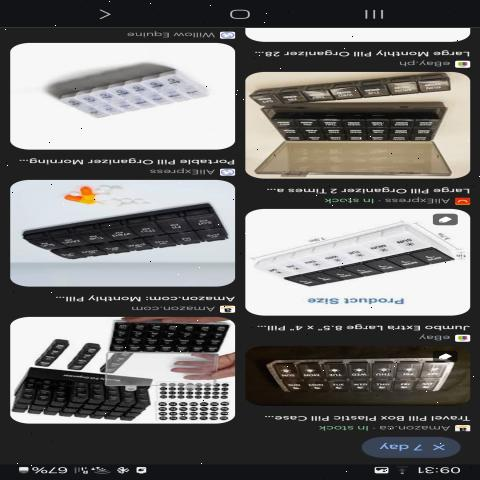PillBox: (258, 216, 464, 302), (19, 194, 229, 266), (264, 339, 460, 409), (252, 107, 449, 150), (94, 320, 236, 359)
